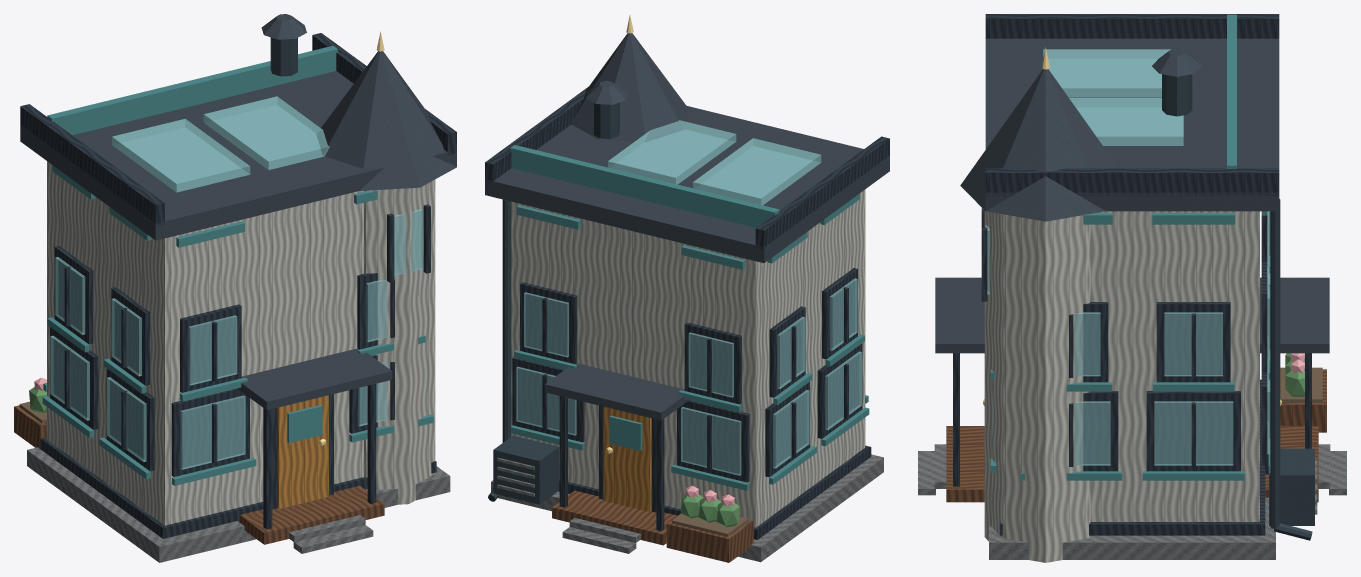
Rendered from house_modern_lv3_tower.glb.
3 views of the same model, side by side, from view 1: azimuth 30°, elevation 25°; view 2: azimuth 150°, elevation 25°; view 3: azimuth 270°, elevation 25° (orthographic). The views are drawn at different scales.
Visible parts, largest first — view 1: walls, flat_roof, tower, tower_roof, roof_terrace, foundation, solar_panel, solar_panel.001, front_window_frame, front_porch_canopy, front_door, front_window_frame.002 (+35 smaller); view 2: walls, flat_roof, roof_terrace, tower_roof, solar_panel, solar_panel.001, back_porch_canopy, back_window_frame, foundation, back_door, back_window_frame.003, back_window_frame.002 (+37 smaller); view 3: tower, walls, flat_roof, tower_roof, right_window_frame.001, parapet.001, parapet, foundation, right_window_frame.003, solar_panel, right_window_glass.001, solar_panel.001 (+29 smaller).
Boxes of the visible parts, x1=… form: walls: x1=47, y1=161, x2=363, y2=525; flat_roof: x1=20, y1=71, x2=456, y2=240; tower: x1=364, y1=179, x2=435, y2=504; tower_roof: x1=316, y1=51, x2=456, y2=190; roof_terrace: x1=47, y1=46, x2=337, y2=135; foundation: x1=27, y1=447, x2=450, y2=562; solar_panel: x1=112, y1=118, x2=250, y2=192; solar_panel.001: x1=203, y1=96, x2=329, y2=169; front_window_frame: x1=171, y1=388, x2=249, y2=476; front_porch_canopy: x1=237, y1=348, x2=392, y2=410; front_door: x1=277, y1=395, x2=328, y2=508; front_window_frame.002: x1=180, y1=304, x2=241, y2=392; walls: x1=511, y1=189, x2=865, y2=527; flat_roof: x1=485, y1=106, x2=889, y2=262; roof_terrace: x1=510, y1=145, x2=779, y2=227; tower_roof: x1=571, y1=33, x2=689, y2=141; solar_panel: x1=693, y1=138, x2=821, y2=205; solar_panel.001: x1=608, y1=120, x2=736, y2=184; back_porch_canopy: x1=544, y1=363, x2=688, y2=420; back_window_frame: x1=677, y1=400, x2=749, y2=482; foundation: x1=491, y1=454, x2=883, y2=562; back_door: x1=603, y1=406, x2=651, y2=511; back_window_frame.003: x1=520, y1=282, x2=577, y2=363; back_window_frame.002: x1=684, y1=322, x2=741, y2=404; tower: x1=984, y1=211, x2=1090, y2=562; walls: x1=1091, y1=211, x2=1259, y2=521; flat_roof: x1=985, y1=38, x2=1279, y2=211; tower_roof: x1=960, y1=69, x2=1117, y2=221; right_window_frame.001: x1=1146, y1=391, x2=1240, y2=471; parapet.001: x1=985, y1=168, x2=1279, y2=196; parapet: x1=985, y1=14, x2=1279, y2=38; foundation: x1=989, y1=497, x2=1275, y2=559; right_window_frame.003: x1=1156, y1=302, x2=1230, y2=382; solar_panel: x1=1043, y1=49, x2=1183, y2=97; right_window_glass.001: x1=1154, y1=401, x2=1233, y2=465; solar_panel.001: x1=1069, y1=98, x2=1183, y2=145.
Bounding box in the file's own units: 3.15 × 4.24 × 3.36.
Materials: 13 (7 with a texture image).
